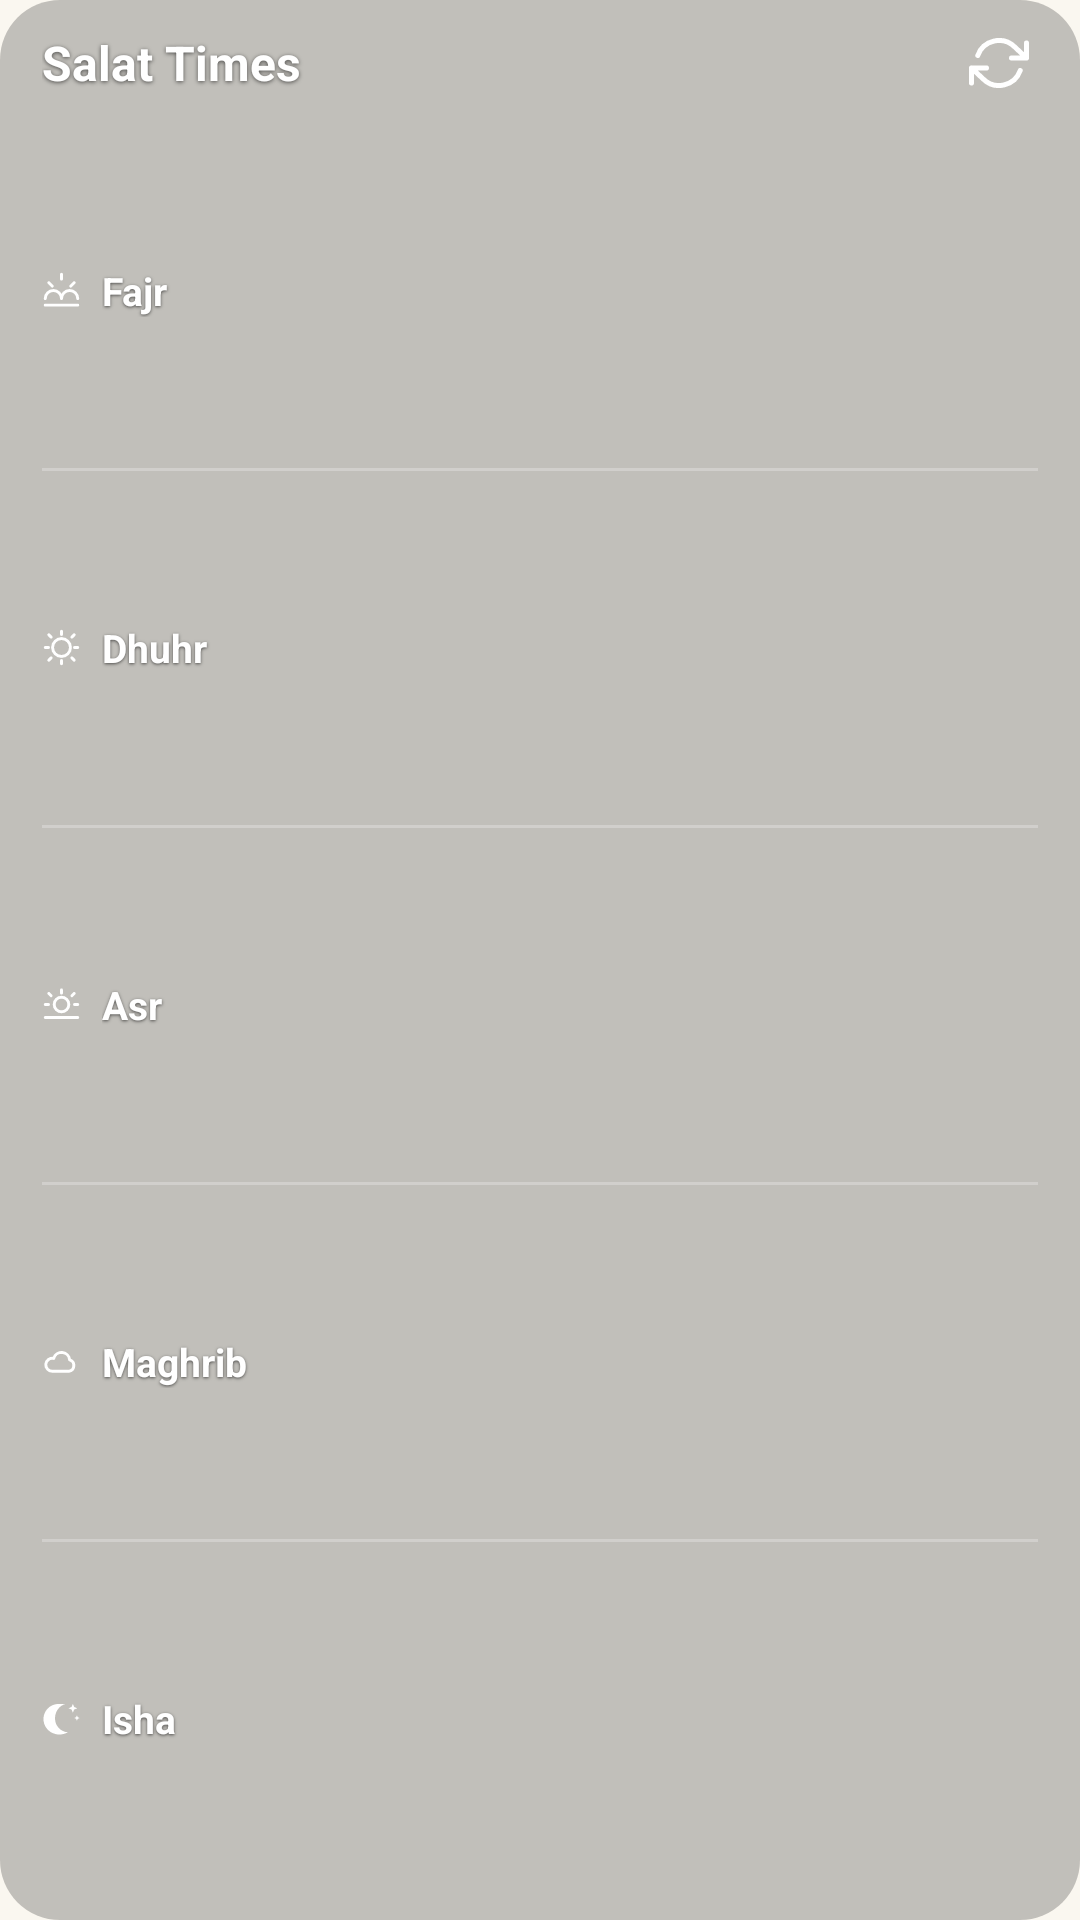

Locate icon controls on the screen. Image size 1080 x 1920, boxes as box(x1, y1, x2, y2).
Refresh: box(969, 38, 1029, 88)
